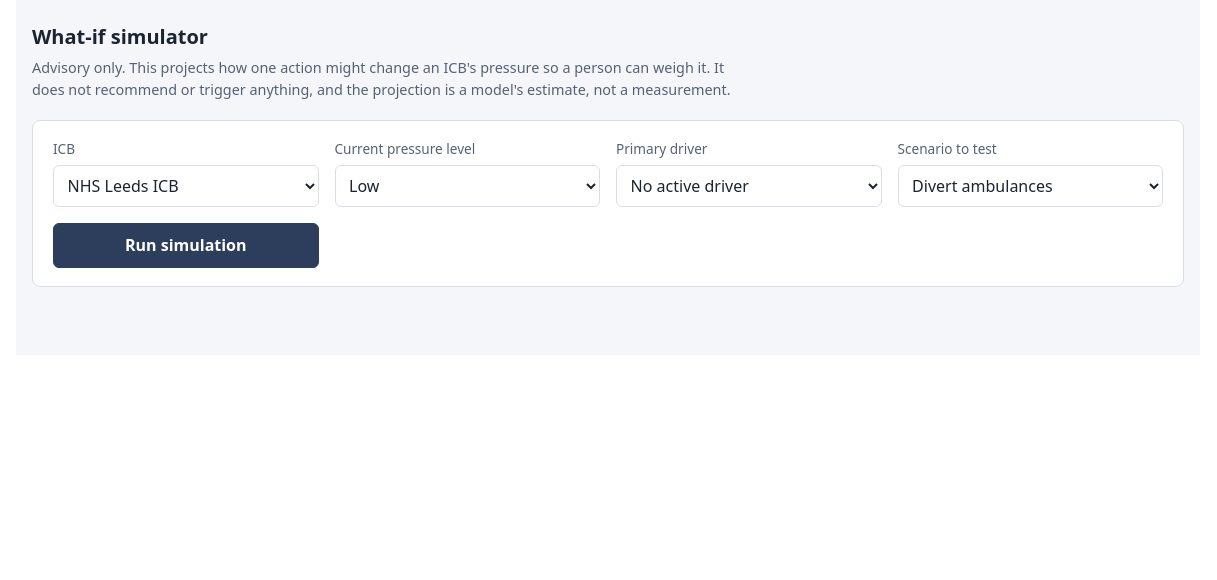
Test: SimulatorPage › boundary: a projection with no assumptions says so instead of rendering an empty list
The width and height of the screenshot is (1217, 580).
Click the button "Run simulation" at (186, 245), box left=53, top=223, right=318, bottom=268
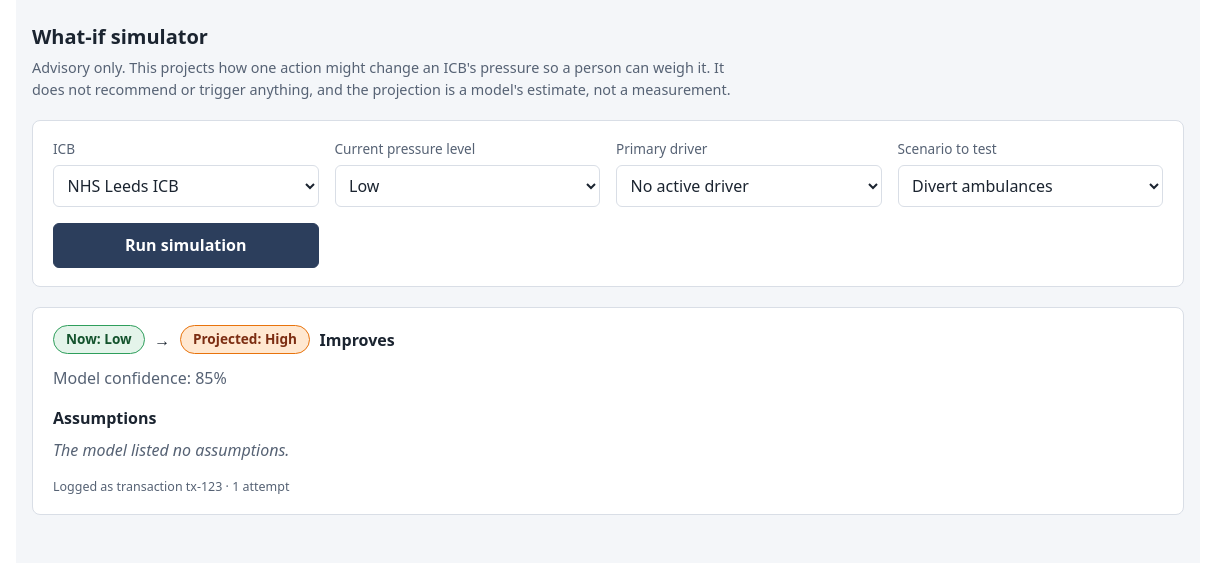
Expected: the text "The model listed no assumptions." is shown, left=53, top=439, right=290, bottom=461
